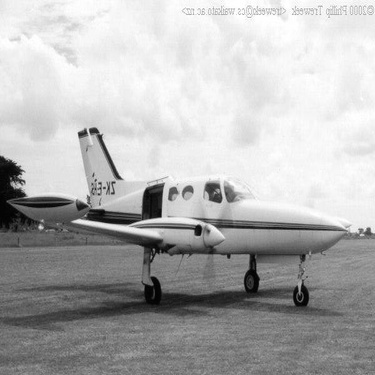airplane: (3, 113, 361, 315)
